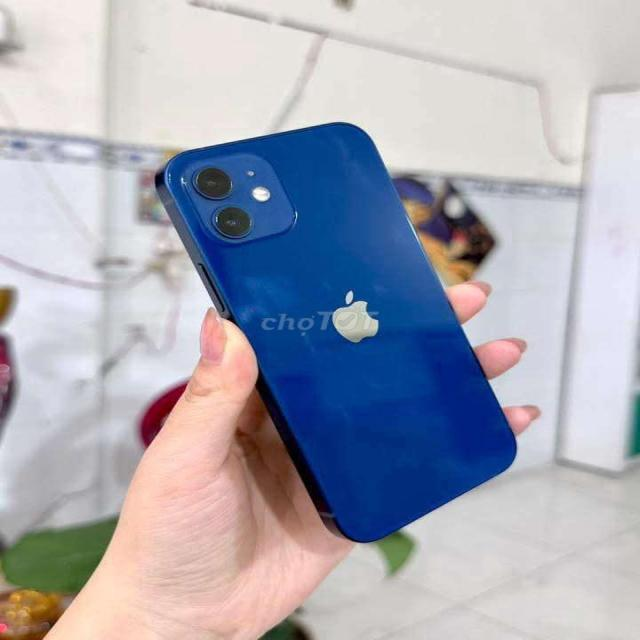gen_12_13: (158, 121, 518, 544)
